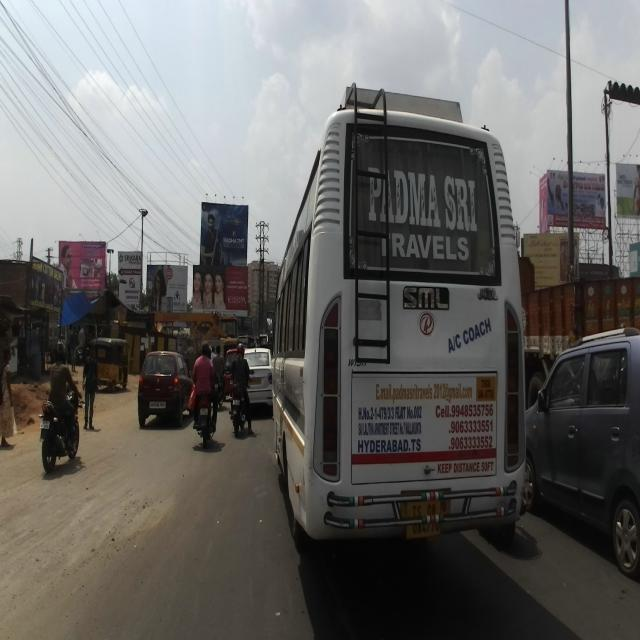Car_Maruti-Suzuki: (518, 324, 640, 580), (136, 349, 195, 425)
bus: (266, 82, 526, 550)
motorcycle_Hero: (193, 378, 221, 446), (229, 367, 255, 438)
motorcycle_bajaj: (37, 388, 83, 474)
truck: (516, 254, 639, 414)
